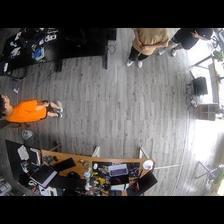normal: (124, 27, 169, 70), (1, 92, 64, 121)
